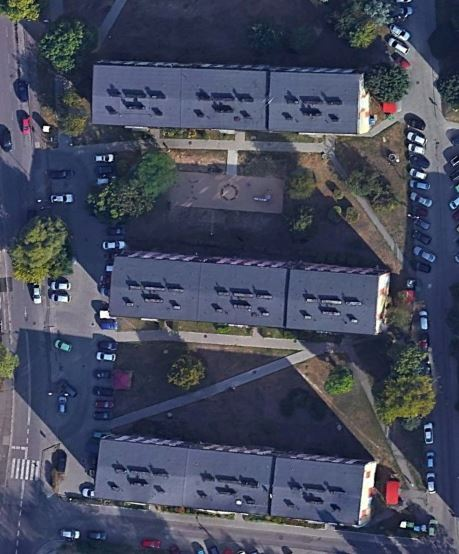block of flats: (92, 428, 383, 531), (104, 242, 393, 338), (83, 56, 383, 138)
